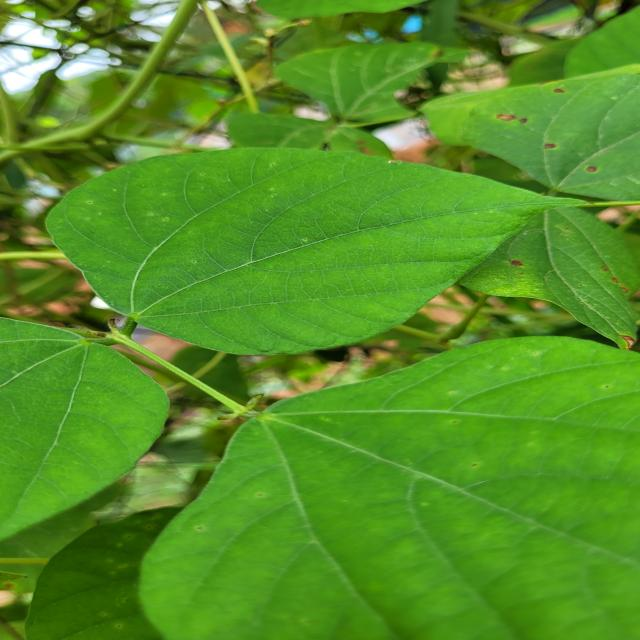Dolicos bean_healthy: (136, 338, 640, 640), (46, 140, 634, 355), (0, 300, 163, 565)
